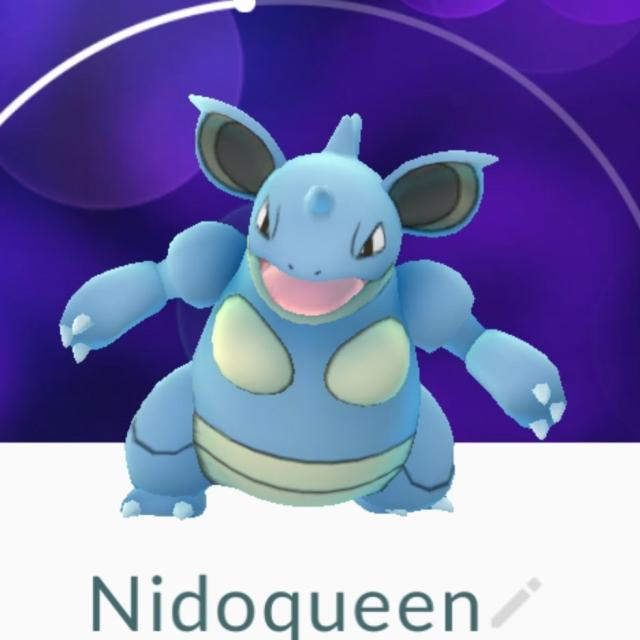Nidoqueen: (103, 91, 516, 522)
